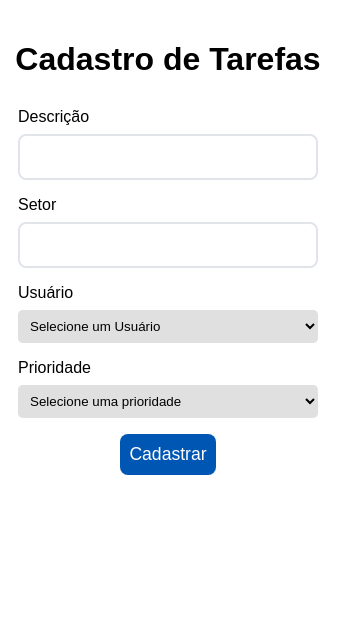
Scenario: Cadastro de Tarefas › deve exibir mensagens de erro ao enviar formulário vazio
The width and height of the screenshot is (337, 618).
Click the button "Cadastrar". click: (168, 454)
box: x1=120 y1=434 x2=216 y2=475
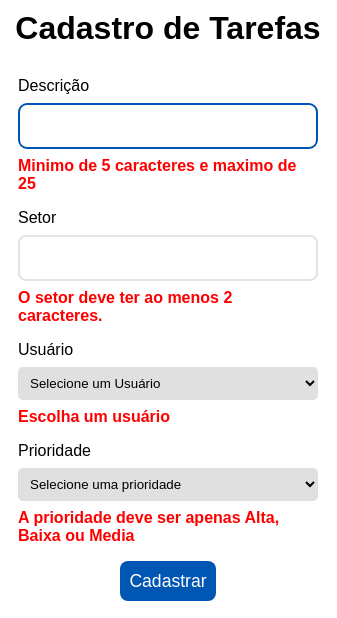
Result: the text "Minimo de 5 caracteres e maximo de 25" is shown at x1=18 y1=157 x2=318 y2=193
Result: the text "O setor deve ter ao menos 2 caracteres." is shown at x1=18 y1=289 x2=232 y2=324
Result: the text "Escolha um usuário" is shown at x1=18 y1=408 x2=170 y2=425
